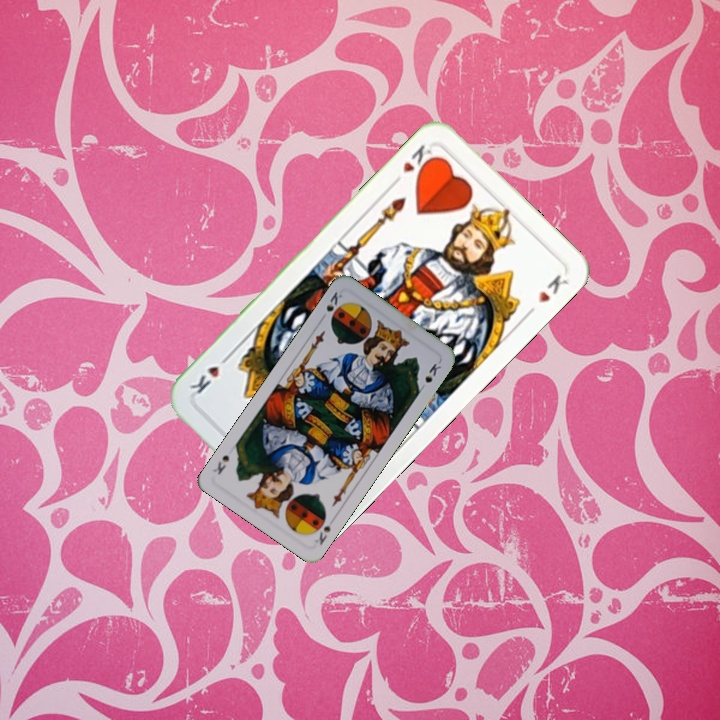HK: (398, 140, 439, 179)
SK: (322, 287, 345, 314), (311, 521, 334, 548)
